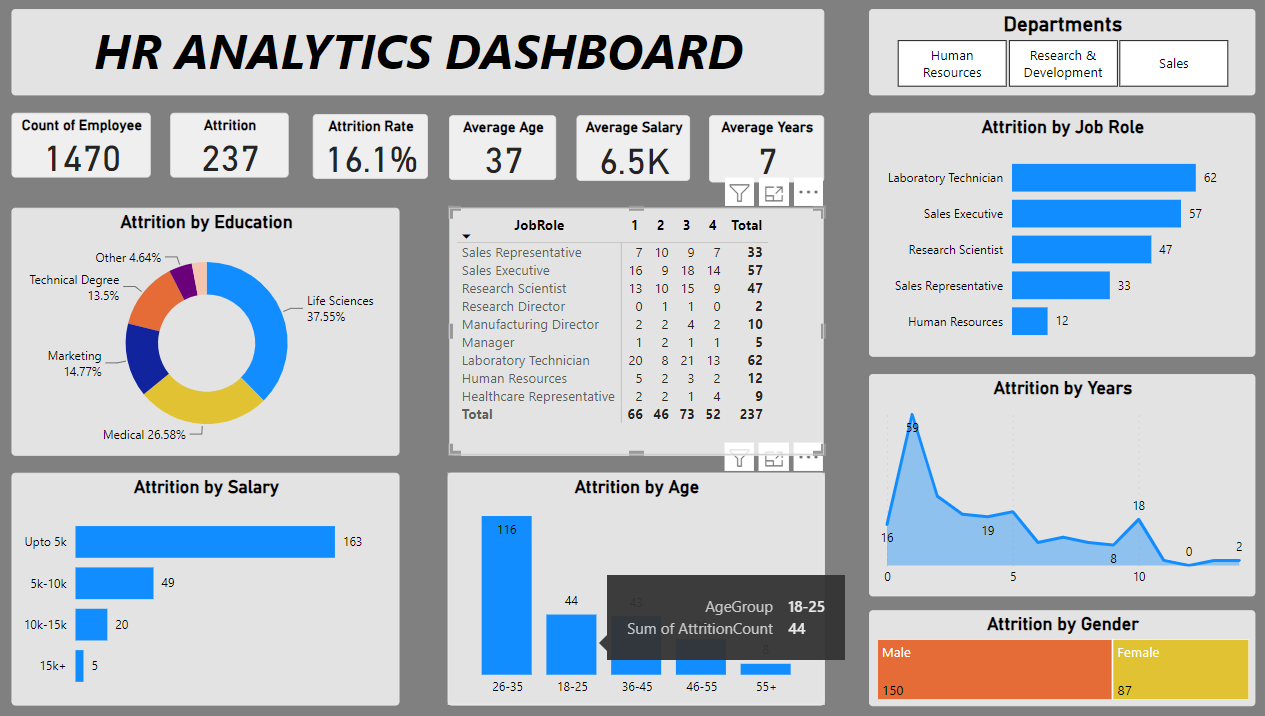

Layout of this report page (visuals, bound fields, positions):
{"tool":"powerbi","page":{"name":"Page 1","canvas":[1280,720],"ordinal":0},"visuals":[{"type":"card","title":"Count of Employee","fields":{"Values":["CountNonNull(HR_Analytics.EmpID)"]},"box":[17,113.8,139.4,64.9],"z":0},{"type":"card","title":"Attrition","fields":{"Values":["Sum(HR_Analytics.AttritionCount)"]},"box":[176.6,113.8,118.1,64.9],"z":1000},{"type":"card","title":"Attrition Rate","fields":{"Values":["HR_Analytics.AttritionRate"]},"box":[319.1,114.9,114.9,64.9],"z":2000},{"type":"card","title":"Average Age ","fields":{"Values":["Avg(HR_Analytics.Age)"]},"box":[455.3,116,107.4,64.9],"z":3000},{"type":"card","title":"Average Salary","fields":{"Values":["Avg(HR_Analytics.MonthlyIncome)"]},"box":[583,116,113.8,66],"z":4000},{"type":"card","title":"Average Years ","fields":{"Values":["Avg(HR_Analytics.YearsAtCompany)"]},"box":[714.9,116,114.9,67],"z":5000},{"type":"donutChart","title":"Attrition by Education","fields":{"Category":["HR_Analytics.EducationField"],"Y":["Sum(HR_Analytics.AttritionCount)"]},"box":[17,208.5,388.3,247.9],"z":6000},{"type":"columnChart","title":"Attrition by Age","fields":{"Category":["HR_Analytics.AgeGroup"],"Y":["Sum(HR_Analytics.AttritionCount)"]},"box":[453.2,473.4,376.6,233],"z":7000},{"type":"pivotTable","fields":{"Rows":["HR_Analytics.JobRole"],"Columns":["HR_Analytics.JobSatisfaction"],"Values":["Sum(HR_Analytics.AttritionCount)"]},"box":[455.3,208.5,374.5,247.9],"z":8000},{"type":"barChart","title":"Attrition by Salary","fields":{"Category":["HR_Analytics.SalarySlab"],"Y":["Sum(HR_Analytics.AttritionCount)"]},"box":[17,473.4,388.3,233],"z":9000},{"type":"barChart","title":"Attrition by Job Role","fields":{"Category":["HR_Analytics.JobRole"],"Y":["Sum(HR_Analytics.AttritionCount)"]},"box":[875.5,113.8,386.2,243.6],"z":10000},{"type":"areaChart","title":"Attrition by Years","fields":{"Category":["HR_Analytics.YearsAtCompany"],"Y":["Sum(HR_Analytics.AttritionCount)"]},"box":[875,375,386.2,222.5],"z":11000},{"type":"treemap","title":"Attrition by Gender","fields":{"Group":["HR_Analytics.Gender"],"Values":["Sum(HR_Analytics.AttritionCount)"]},"box":[875.5,610.6,386.2,95.7],"z":12000},{"type":"slicer","title":"Departments","fields":{"Values":["HR_Analytics.Department"]},"box":[875.5,9.6,386.2,86.2],"z":13000},{"type":"textbox","box":[17,9.6,812.8,86.2],"z":14000}]}

Visuals, with their boxes in screenshot pixels (x1, y1, x2, y2), scaled from the page's 1280x720 canvas onto the 1265x716 screenshot:
"Count of Employee" card: Rect(17, 113, 155, 178)
"Attrition" card: Rect(175, 113, 291, 178)
"Attrition Rate" card: Rect(315, 114, 429, 179)
"Average Age " card: Rect(450, 115, 556, 180)
"Average Salary" card: Rect(576, 115, 689, 181)
"Average Years " card: Rect(707, 115, 820, 182)
"Attrition by Education" donutChart: Rect(17, 207, 401, 454)
"Attrition by Age" columnChart: Rect(448, 471, 820, 702)
pivotTable - HR_Analytics.JobRole x HR_Analytics.JobSatisfaction: Rect(450, 207, 820, 454)
"Attrition by Salary" barChart: Rect(17, 471, 401, 702)
"Attrition by Job Role" barChart: Rect(865, 113, 1247, 355)
"Attrition by Years" areaChart: Rect(865, 373, 1246, 594)
"Attrition by Gender" treemap: Rect(865, 607, 1247, 702)
"Departments" slicer: Rect(865, 10, 1247, 95)
textbox: Rect(17, 10, 820, 95)
